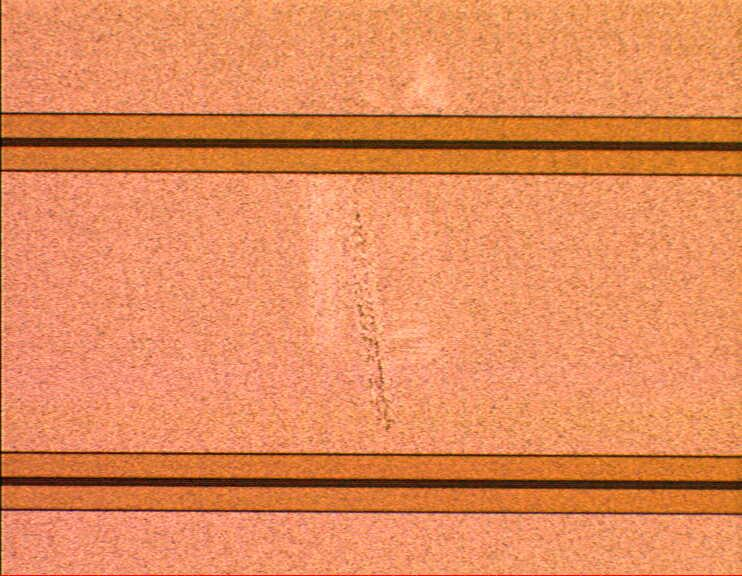SCRATCH: (302, 49, 487, 433)
